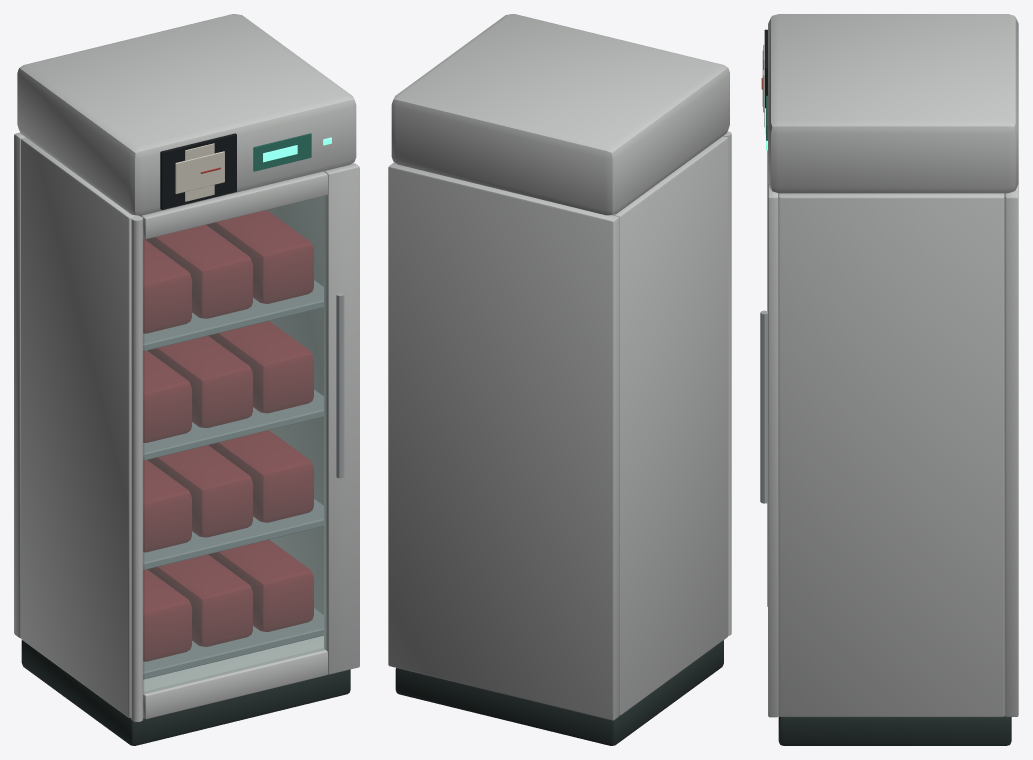
The model's file is blood-bank-fridge.glb.
3 renders of one model, left to right at view 1: azimuth 30°, elevation 25°; view 2: azimuth 150°, elevation 25°; view 3: azimuth 270°, elevation 25°, orthographic. The views are drawn at different scales.
Parts seen in each view (by area): view 1: blood-bank-fridge; view 2: blood-bank-fridge; view 3: blood-bank-fridge.
Part boxes in pixels (x1,y1,x2,y2): blood-bank-fridge: (14,14,359,745); blood-bank-fridge: (388,14,731,745); blood-bank-fridge: (760,14,1018,745).
Bounding box in the file's own units: 0.78 × 1.98 × 0.7425.
